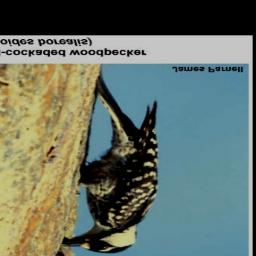Woodpecker: (56, 75, 166, 254)
